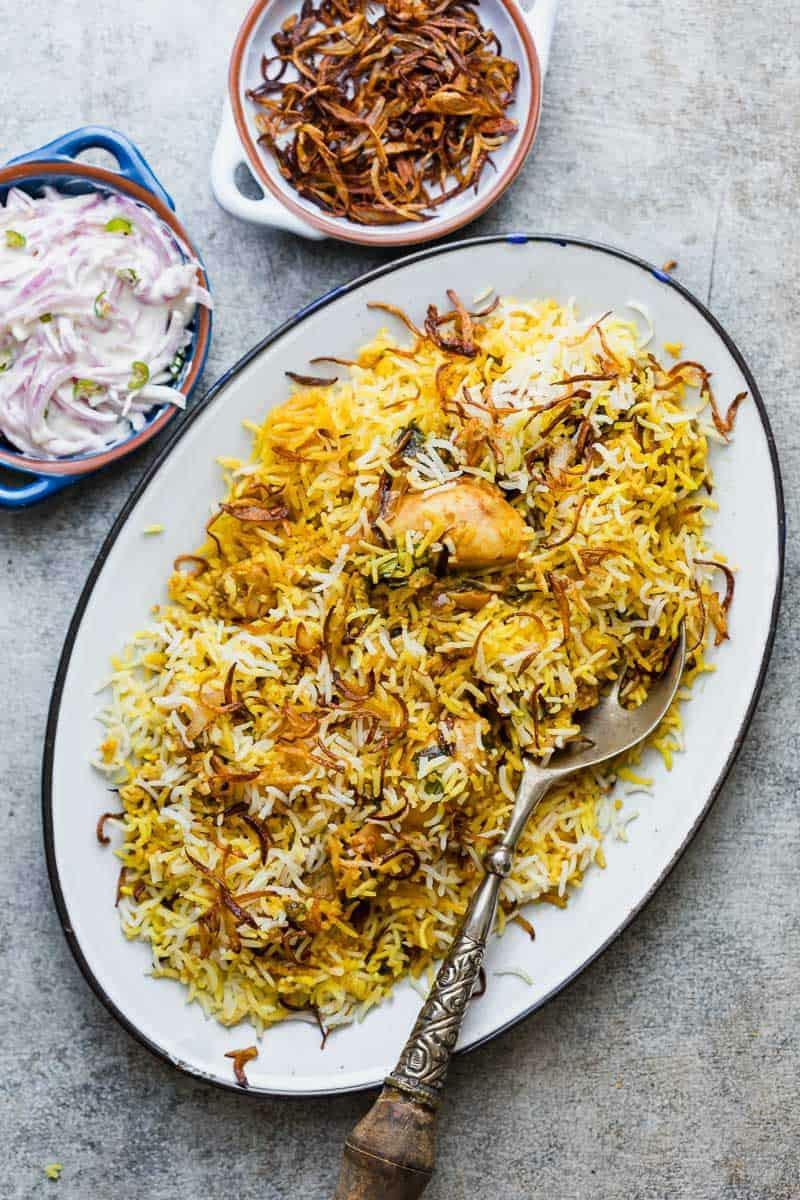Biryani: (103, 286, 723, 1049)
